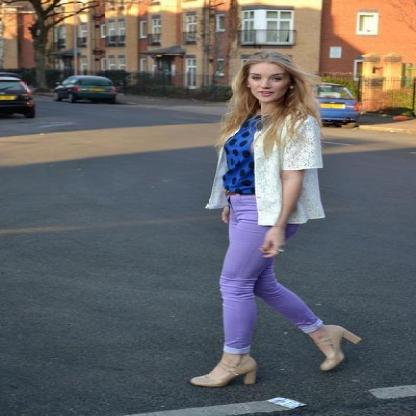pants: (220, 193, 318, 353)
shirt: (205, 115, 336, 225), (223, 108, 267, 196)
shoe: (191, 325, 360, 385)
